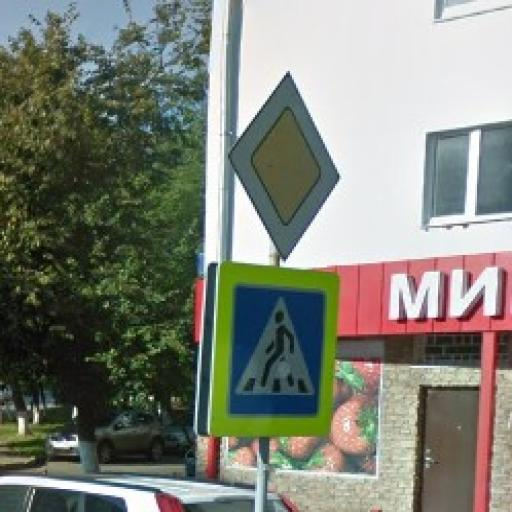traffic_sign: (207, 262, 340, 442), (230, 70, 343, 264)
